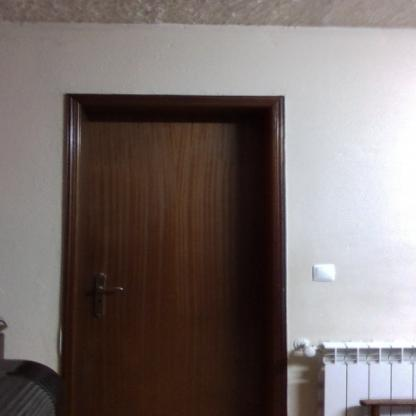door: (80, 110, 272, 414)
lever: (94, 284, 128, 296)
